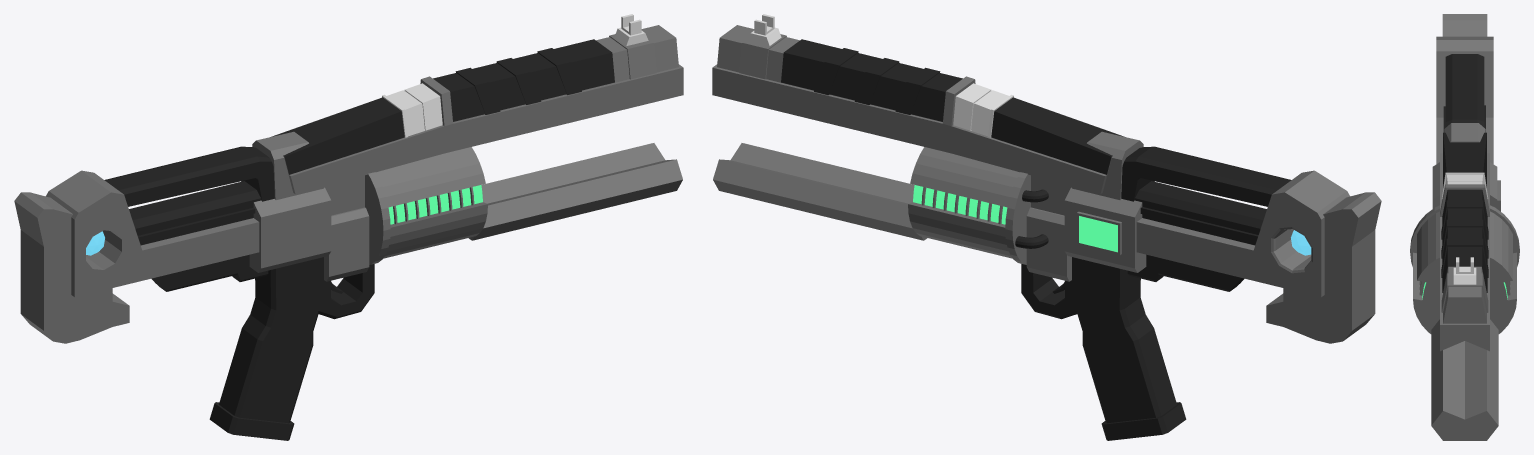
File: MainWeapon.gltf
3 renders of one model, left to right at view 1: azimuth 30°, elevation 25°; view 2: azimuth 150°, elevation 25°; view 3: azimuth 270°, elevation 25°, orthographic. The views are drawn at different scales.
Parts seen in each view (by area): view 1: maingun; view 2: maingun; view 3: maingun.
Part boxes in pixels (<box>): maingun: <box>14,14,683,440</box>; maingun: <box>712,14,1381,440</box>; maingun: <box>1410,14,1519,440</box>.
Size of the model in its own units: 2.9 by 1.42 by 0.4462.
